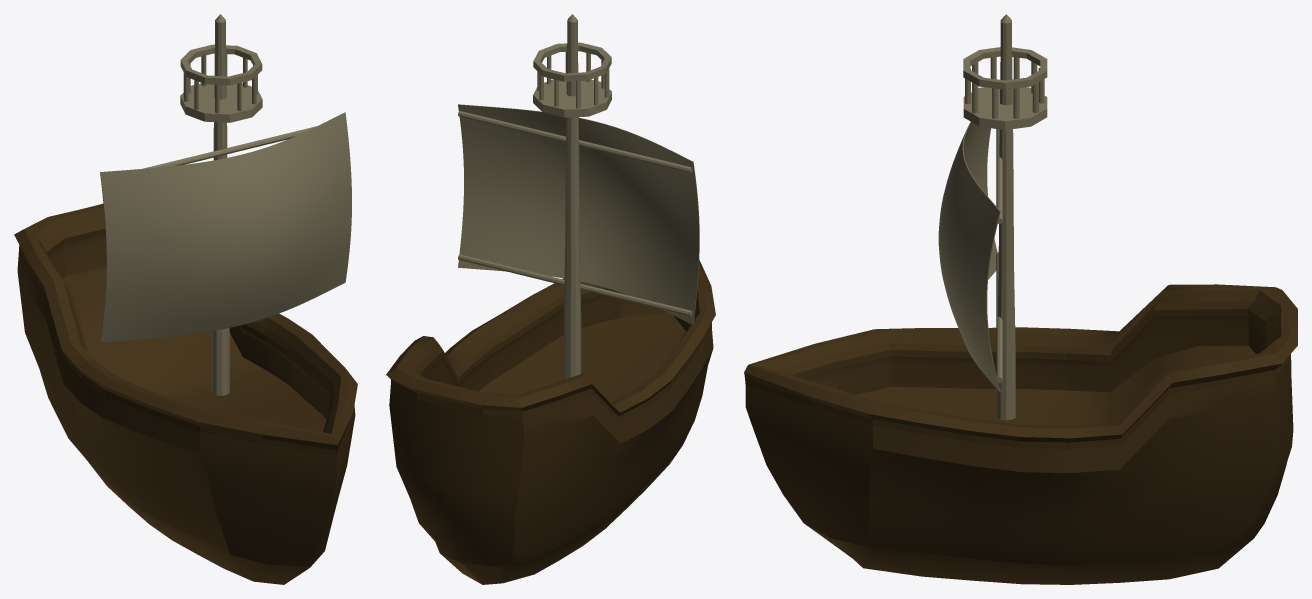
Rendered from BarcoTier1.fbx.
The picture shows the model from 3 angles, left to right: view 1: azimuth 30°, elevation 25°; view 2: azimuth 150°, elevation 25°; view 3: azimuth 270°, elevation 25°; orthographic projection. The views are drawn at different scales.
Parts seen in each view (by area): view 1: pCube10, pCylinder101; view 2: pCube10, pCylinder101; view 3: pCube10, pCylinder101.
Boxes of the visible parts, x1,y1,x2,y2 form: pCube10: [14, 203, 357, 584]; pCylinder101: [100, 14, 351, 395]; pCube10: [386, 260, 715, 584]; pCylinder101: [458, 14, 699, 378]; pCube10: [744, 284, 1297, 584]; pCylinder101: [938, 14, 1047, 420].
Bounding box in the file's own units: 3.25 × 6.79 × 5.98.
